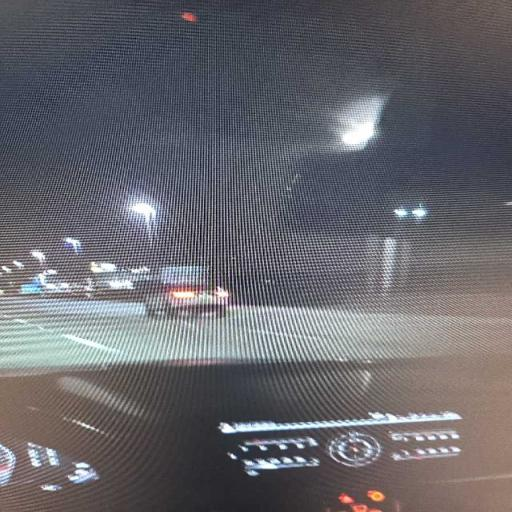car: (145, 284, 229, 316)
lane: (0, 299, 511, 370)
